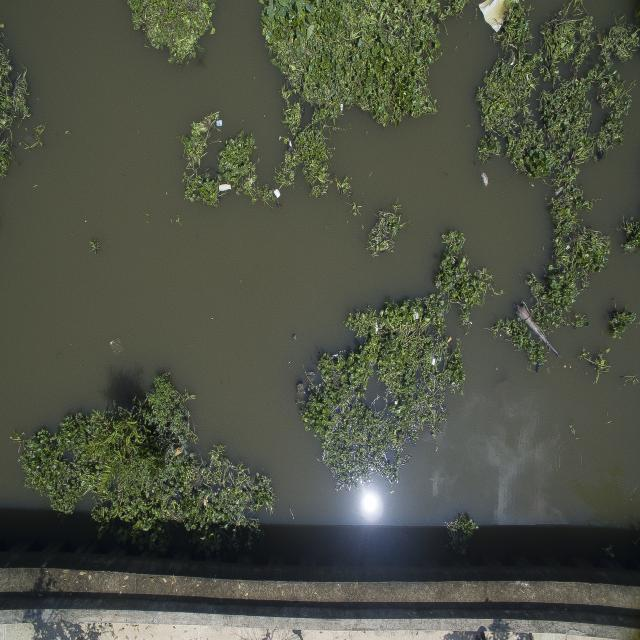Plastic: (478, 0, 504, 33), (554, 185, 566, 197), (273, 189, 281, 199), (431, 358, 436, 366)
